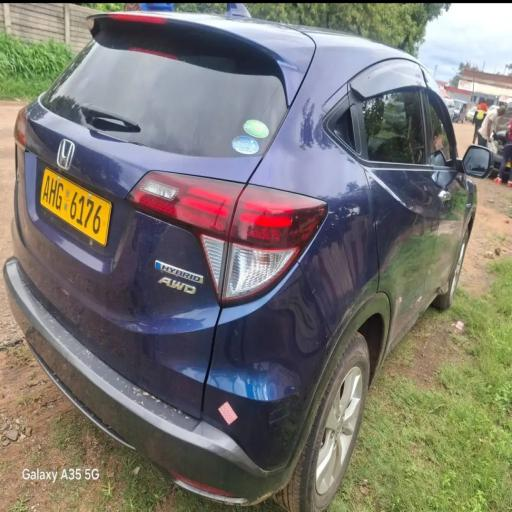number-plates: (40, 161, 103, 234)
